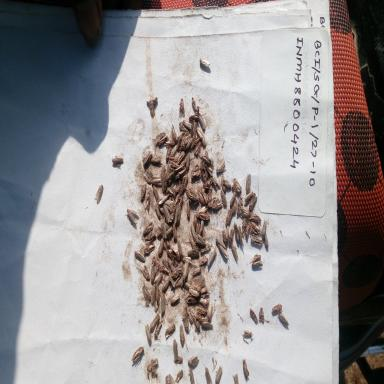pbw: (240, 356, 252, 382), (132, 344, 146, 366), (199, 52, 213, 72), (262, 226, 273, 251), (248, 303, 259, 326), (195, 128, 207, 149), (154, 317, 164, 341), (241, 325, 254, 343), (252, 258, 265, 276), (159, 290, 168, 316), (178, 94, 187, 119), (230, 243, 240, 265), (258, 304, 268, 326), (154, 127, 166, 145), (202, 364, 214, 382), (278, 312, 290, 330), (244, 169, 253, 193), (169, 290, 181, 308), (141, 150, 153, 168), (140, 261, 150, 282), (143, 241, 156, 257), (215, 158, 228, 174), (164, 321, 177, 337), (139, 179, 148, 202), (196, 232, 208, 249), (142, 220, 154, 237), (248, 192, 258, 212), (206, 249, 216, 269), (162, 204, 172, 224), (214, 363, 224, 383), (134, 248, 145, 266), (186, 353, 200, 367), (201, 317, 214, 332), (178, 322, 186, 346), (271, 301, 283, 317), (150, 283, 158, 307), (171, 338, 179, 361), (141, 169, 154, 183), (143, 324, 152, 344), (185, 291, 197, 306), (182, 313, 190, 335), (218, 244, 229, 260), (185, 150, 193, 172), (178, 119, 189, 135), (243, 191, 254, 207), (224, 208, 233, 227), (206, 301, 215, 320), (192, 313, 201, 332), (211, 174, 221, 191), (237, 224, 244, 248), (146, 94, 160, 106), (172, 351, 184, 365), (237, 204, 249, 218), (144, 191, 152, 212), (196, 294, 210, 306), (154, 282, 161, 306), (198, 110, 206, 131), (235, 195, 244, 213), (148, 100, 156, 120), (160, 172, 168, 192), (174, 366, 184, 382), (176, 237, 184, 257), (196, 187, 204, 207), (201, 185, 209, 205), (182, 261, 190, 281), (198, 253, 208, 269), (230, 368, 240, 384), (249, 210, 262, 222), (190, 266, 202, 279), (195, 310, 208, 322), (187, 248, 200, 260), (250, 218, 261, 232), (185, 132, 194, 149), (151, 184, 160, 201), (220, 188, 228, 207), (233, 177, 243, 192), (219, 171, 226, 192), (157, 236, 164, 257), (193, 104, 201, 122), (189, 94, 198, 110), (198, 211, 210, 223), (165, 222, 174, 238), (170, 141, 179, 157), (250, 249, 262, 261), (165, 143, 173, 161), (176, 149, 185, 165), (193, 140, 202, 156), (185, 306, 193, 324), (159, 193, 170, 206), (195, 305, 208, 316), (214, 235, 225, 248), (155, 259, 166, 272), (249, 235, 262, 246), (173, 263, 184, 276), (189, 221, 196, 241), (192, 166, 202, 180), (153, 272, 163, 286), (233, 220, 239, 243), (228, 191, 236, 208), (173, 192, 181, 209), (162, 274, 170, 291), (214, 196, 223, 211), (262, 216, 268, 238), (168, 156, 179, 168), (190, 187, 200, 200), (222, 177, 232, 190), (207, 192, 215, 208), (160, 225, 168, 241), (178, 192, 186, 208), (188, 366, 195, 384), (221, 228, 228, 246), (203, 164, 214, 175), (150, 254, 156, 274), (190, 136, 200, 148), (144, 231, 156, 241), (164, 372, 174, 384), (158, 134, 168, 146), (201, 242, 211, 254), (188, 287, 200, 297), (167, 256, 175, 271), (183, 173, 191, 188), (150, 156, 162, 166), (184, 203, 190, 223), (188, 234, 196, 249), (204, 177, 214, 189), (168, 272, 175, 289), (171, 123, 177, 142), (192, 212, 198, 231), (198, 219, 206, 233), (159, 163, 166, 179), (152, 176, 162, 187), (166, 248, 175, 260), (228, 228, 234, 246), (174, 207, 180, 224), (183, 280, 193, 290), (244, 220, 249, 240), (182, 120, 193, 129), (201, 155, 212, 164), (154, 203, 160, 219), (173, 223, 178, 241), (198, 286, 208, 295), (188, 114, 199, 122), (148, 370, 154, 384), (225, 223, 230, 239), (167, 170, 175, 180), (176, 174, 184, 182)
